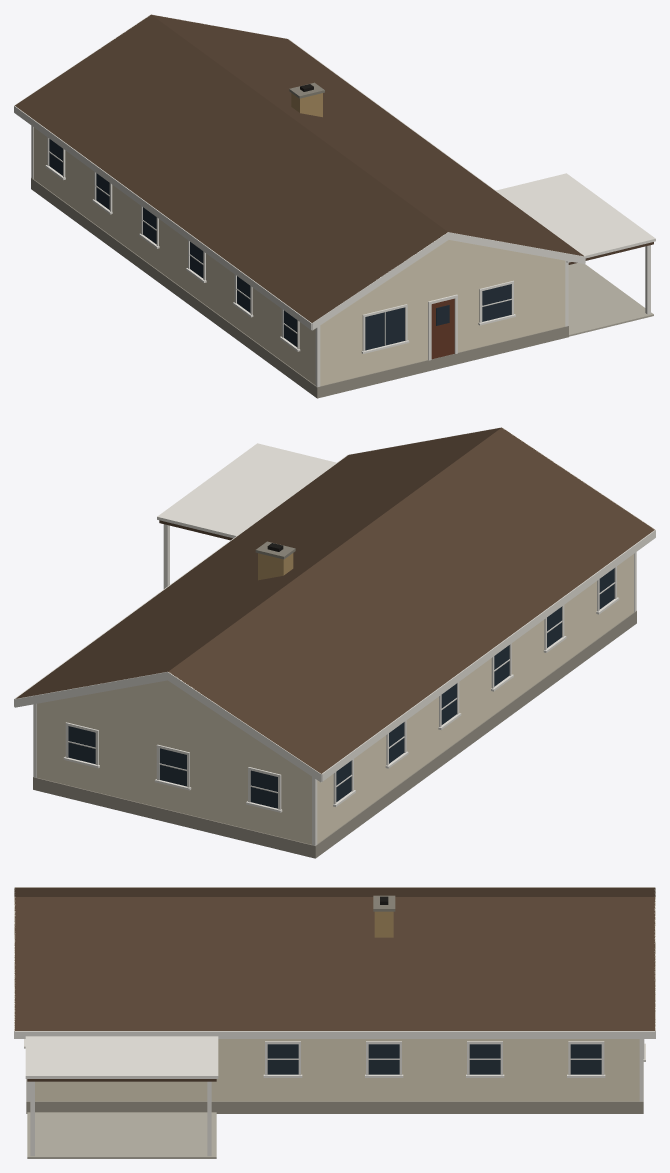
The model's file is ranch-0001.glb.
The picture shows the model from 3 angles, top to bottom: view 1: azimuth 30°, elevation 25°; view 2: azimuth 150°, elevation 25°; view 3: azimuth 270°, elevation 25°; orthographic projection. The views are drawn at different scales.
Parts seen in each view (by area): view 1: house_roof, house_wall, house_trim, house_foundation, house_glass, house_conc, house_door, house_chimney; view 2: house_roof, house_wall, house_trim, house_foundation, house_glass, house_chimney; view 3: house_roof, house_wall, house_trim, house_conc, house_foundation, house_glass, house_trim_white, house_roof_brown, house_chimney.
Part boxes in pixels (left/top/right/bottom): house_roof: left=15, top=14, right=583, bottom=322; house_wall: left=33, top=127, right=565, bottom=385; house_trim: left=14, top=14, right=655, bottom=387; house_foundation: left=31, top=178, right=568, bottom=398; house_glass: left=49, top=139, right=511, bottom=350; house_conc: left=568, top=263, right=653, bottom=336; house_door: left=431, top=298, right=454, bottom=359; house_chimney: left=291, top=93, right=322, bottom=117; house_roof: left=15, top=427, right=654, bottom=773; house_wall: left=37, top=554, right=633, bottom=844; house_trim: left=14, top=427, right=655, bottom=845; house_foundation: left=33, top=611, right=636, bottom=858; house_glass: left=68, top=568, right=614, bottom=808; house_chimney: left=258, top=553, right=293, bottom=580; house_roof: left=14, top=887, right=655, bottom=1030; house_wall: left=35, top=1039, right=639, bottom=1101; house_trim: left=14, top=887, right=655, bottom=1101; house_conc: left=27, top=1112, right=216, bottom=1158; house_foundation: left=26, top=1062, right=643, bottom=1113; house_glass: left=267, top=1044, right=601, bottom=1074; house_trim_white: left=30, top=1081, right=211, bottom=1156; house_roof_brown: left=27, top=1079, right=216, bottom=1081; house_chimney: left=374, top=911, right=393, bottom=937.
Bounding box in the file's own units: 13.79 × 5.74 × 20.33.
